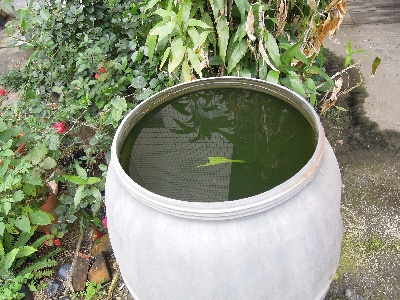bucket: (102, 74, 347, 300)
